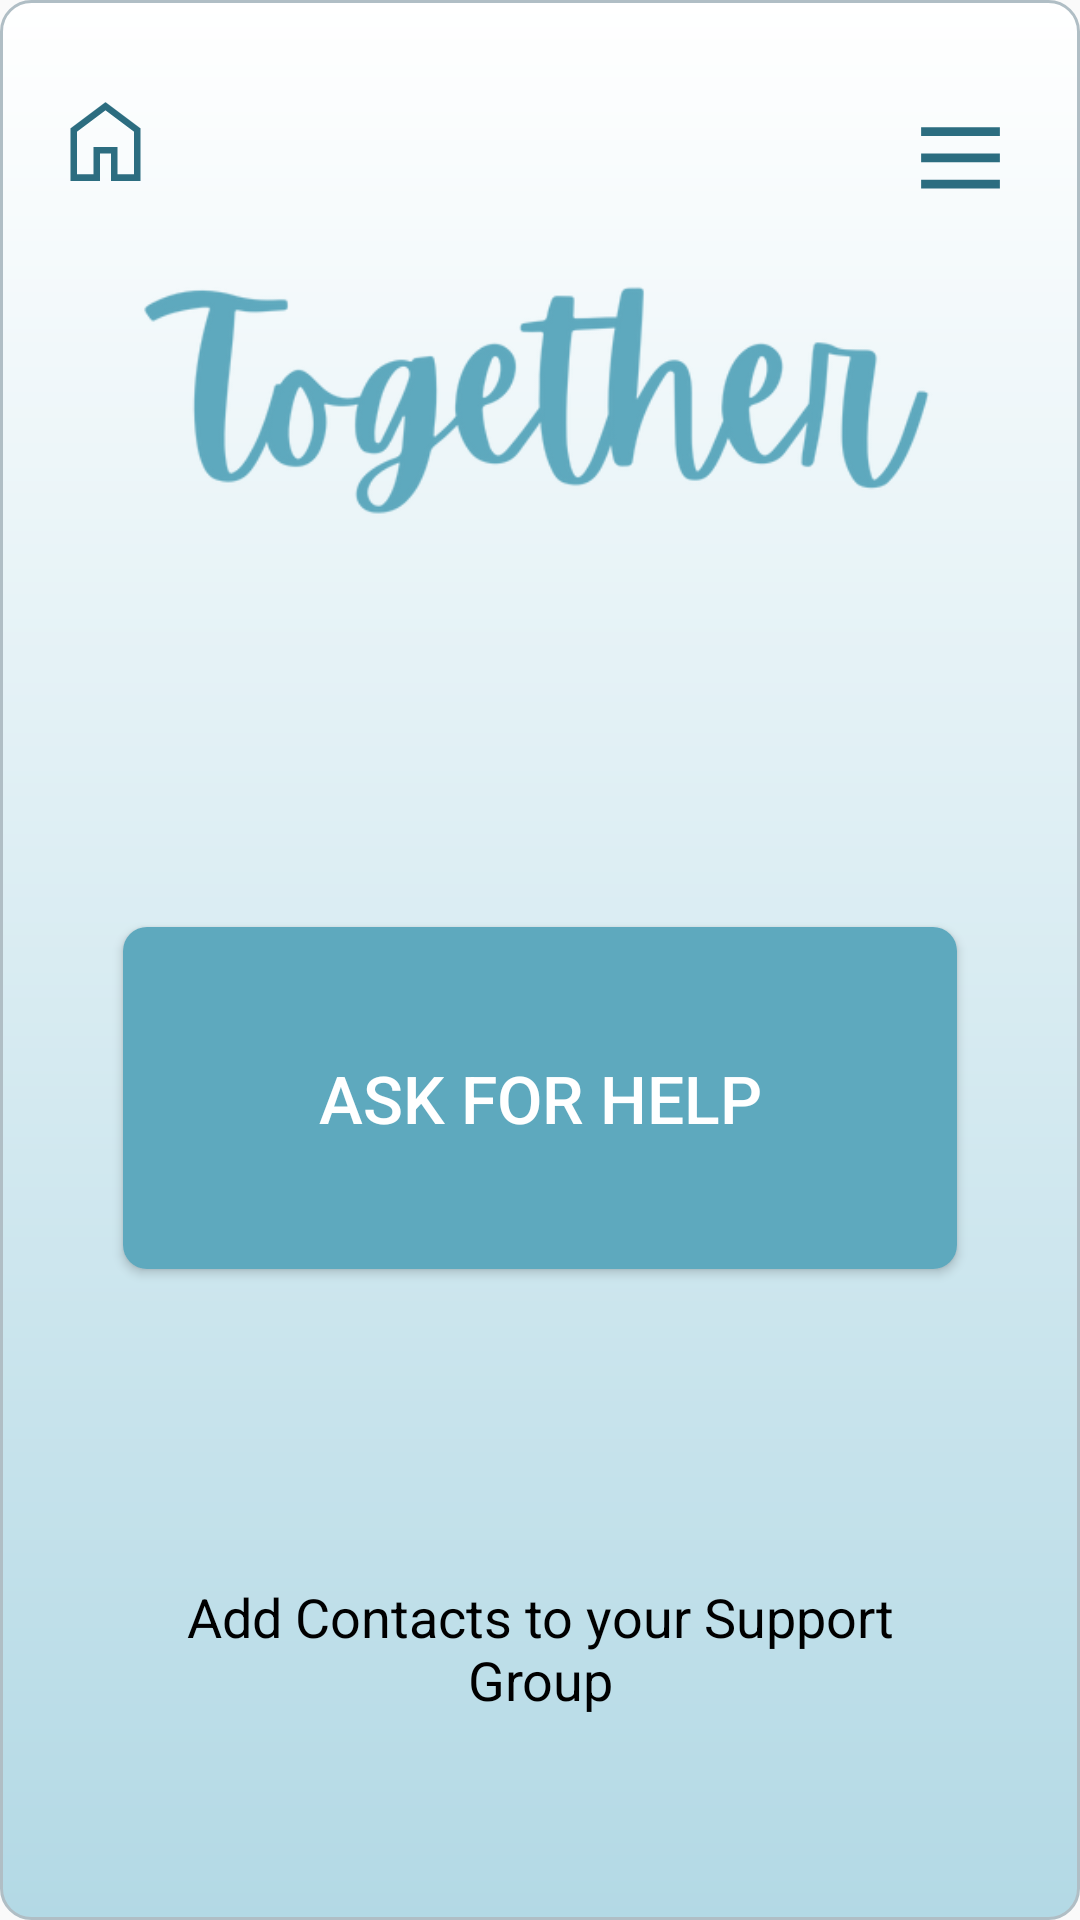

Named icons in this screenshot (1080 x 1920) and their bounding boxes, (x1, y1, x2, y2):
hamburger: (921, 127, 1000, 189)
homebutton: (70, 102, 141, 181)
